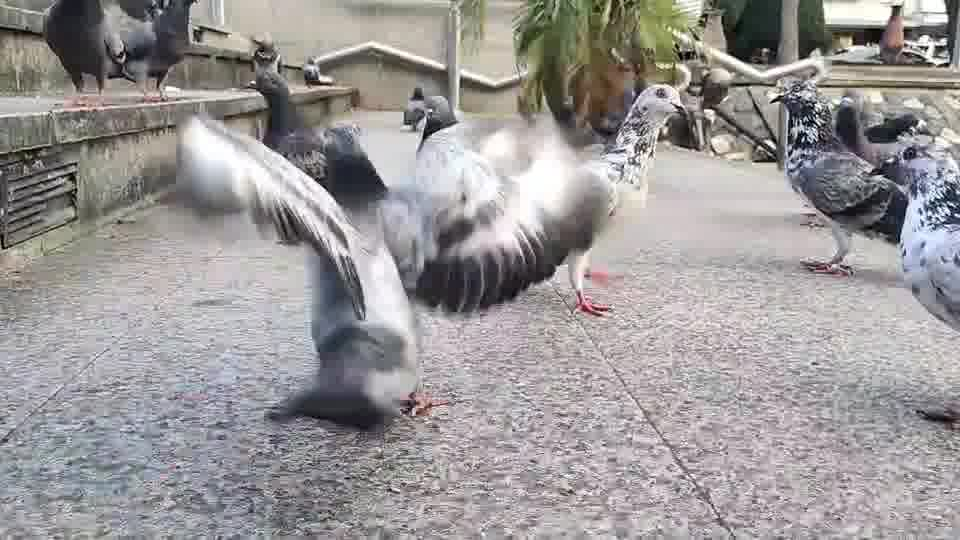Pigeon: (180, 112, 426, 427), (392, 81, 688, 318), (766, 75, 908, 277), (246, 33, 387, 195), (884, 133, 959, 425), (42, 0, 198, 107), (833, 93, 935, 168)
